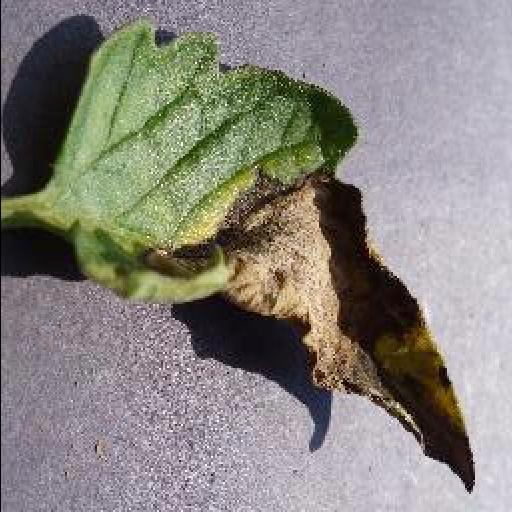disease_tomato: (48, 18, 478, 498)
